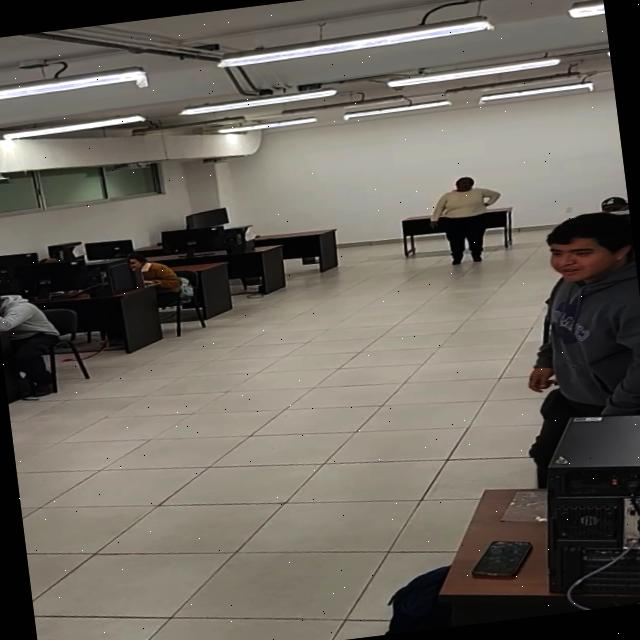Persona: (419, 172, 508, 272)
